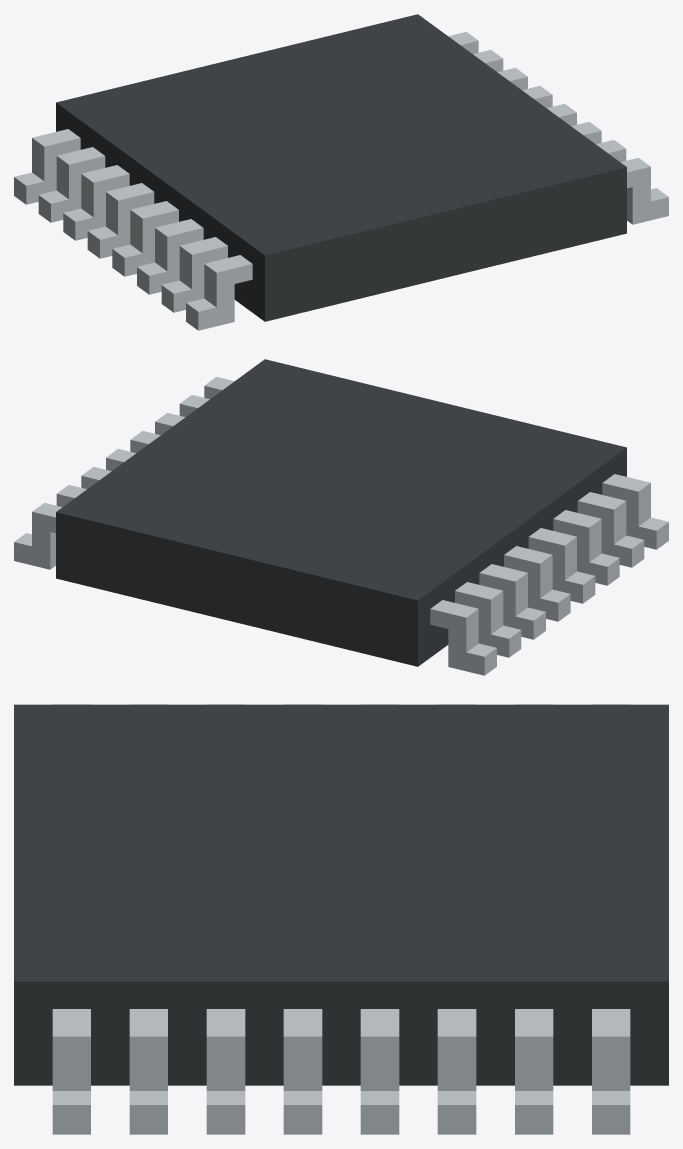
Rendered from DU_電路板_藍_一字積體電路.fbx.
The picture shows the model from 3 angles, top to bottom: view 1: azimuth 30°, elevation 25°; view 2: azimuth 150°, elevation 25°; view 3: azimuth 270°, elevation 25°; orthographic projection. The views are drawn at different scales.
Visible parts, largest first — view 1: pCube95; view 2: pCube95; view 3: pCube95.
Boxes of the visible parts, <box> form: pCube95: <box>14,14,668,330</box>; pCube95: <box>14,359,668,675</box>; pCube95: <box>14,704,668,1134</box>.
Size of the model in its own units: 1.3 by 0.1876 by 1.
Materials: 1 (1 with a texture image).
